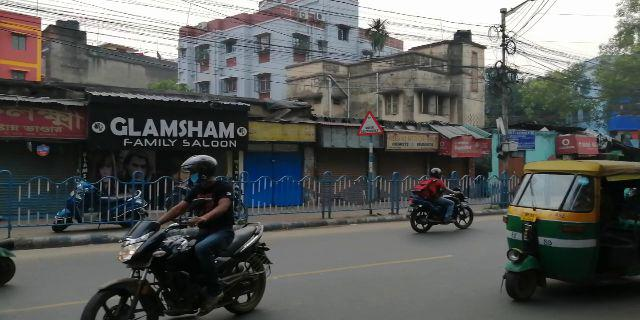Autorickshaw: (503, 156, 628, 295)
Motorbike: (86, 155, 272, 315), (401, 171, 478, 235)
